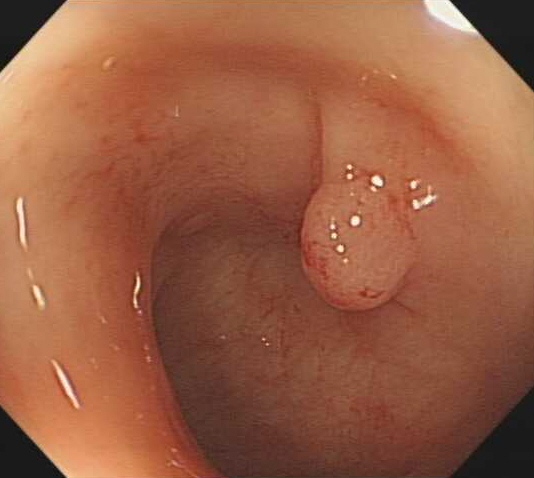adenoma: (296, 174, 417, 315)
